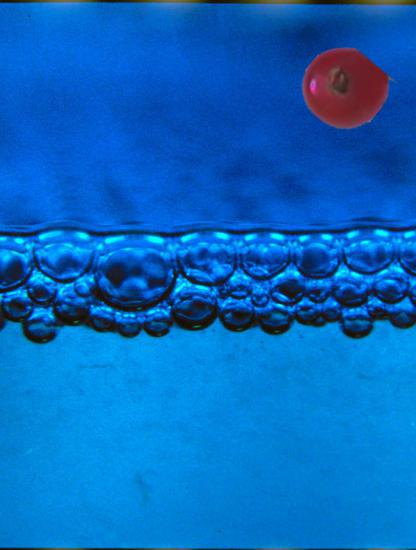Redcurrant: (302, 47, 386, 131)
